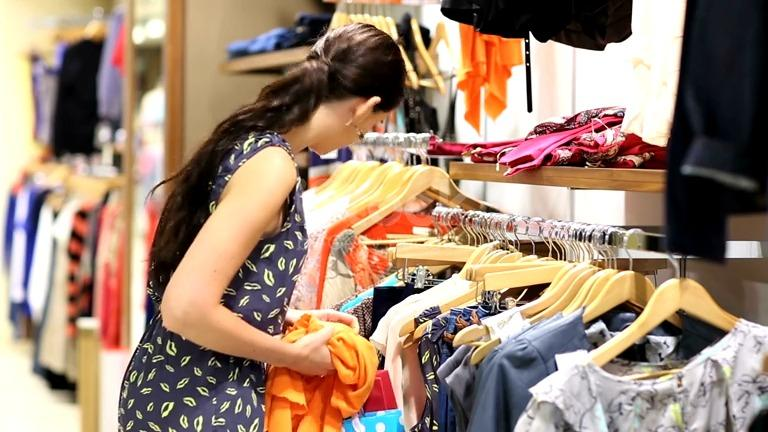Shoplifting: (123, 19, 447, 432)
